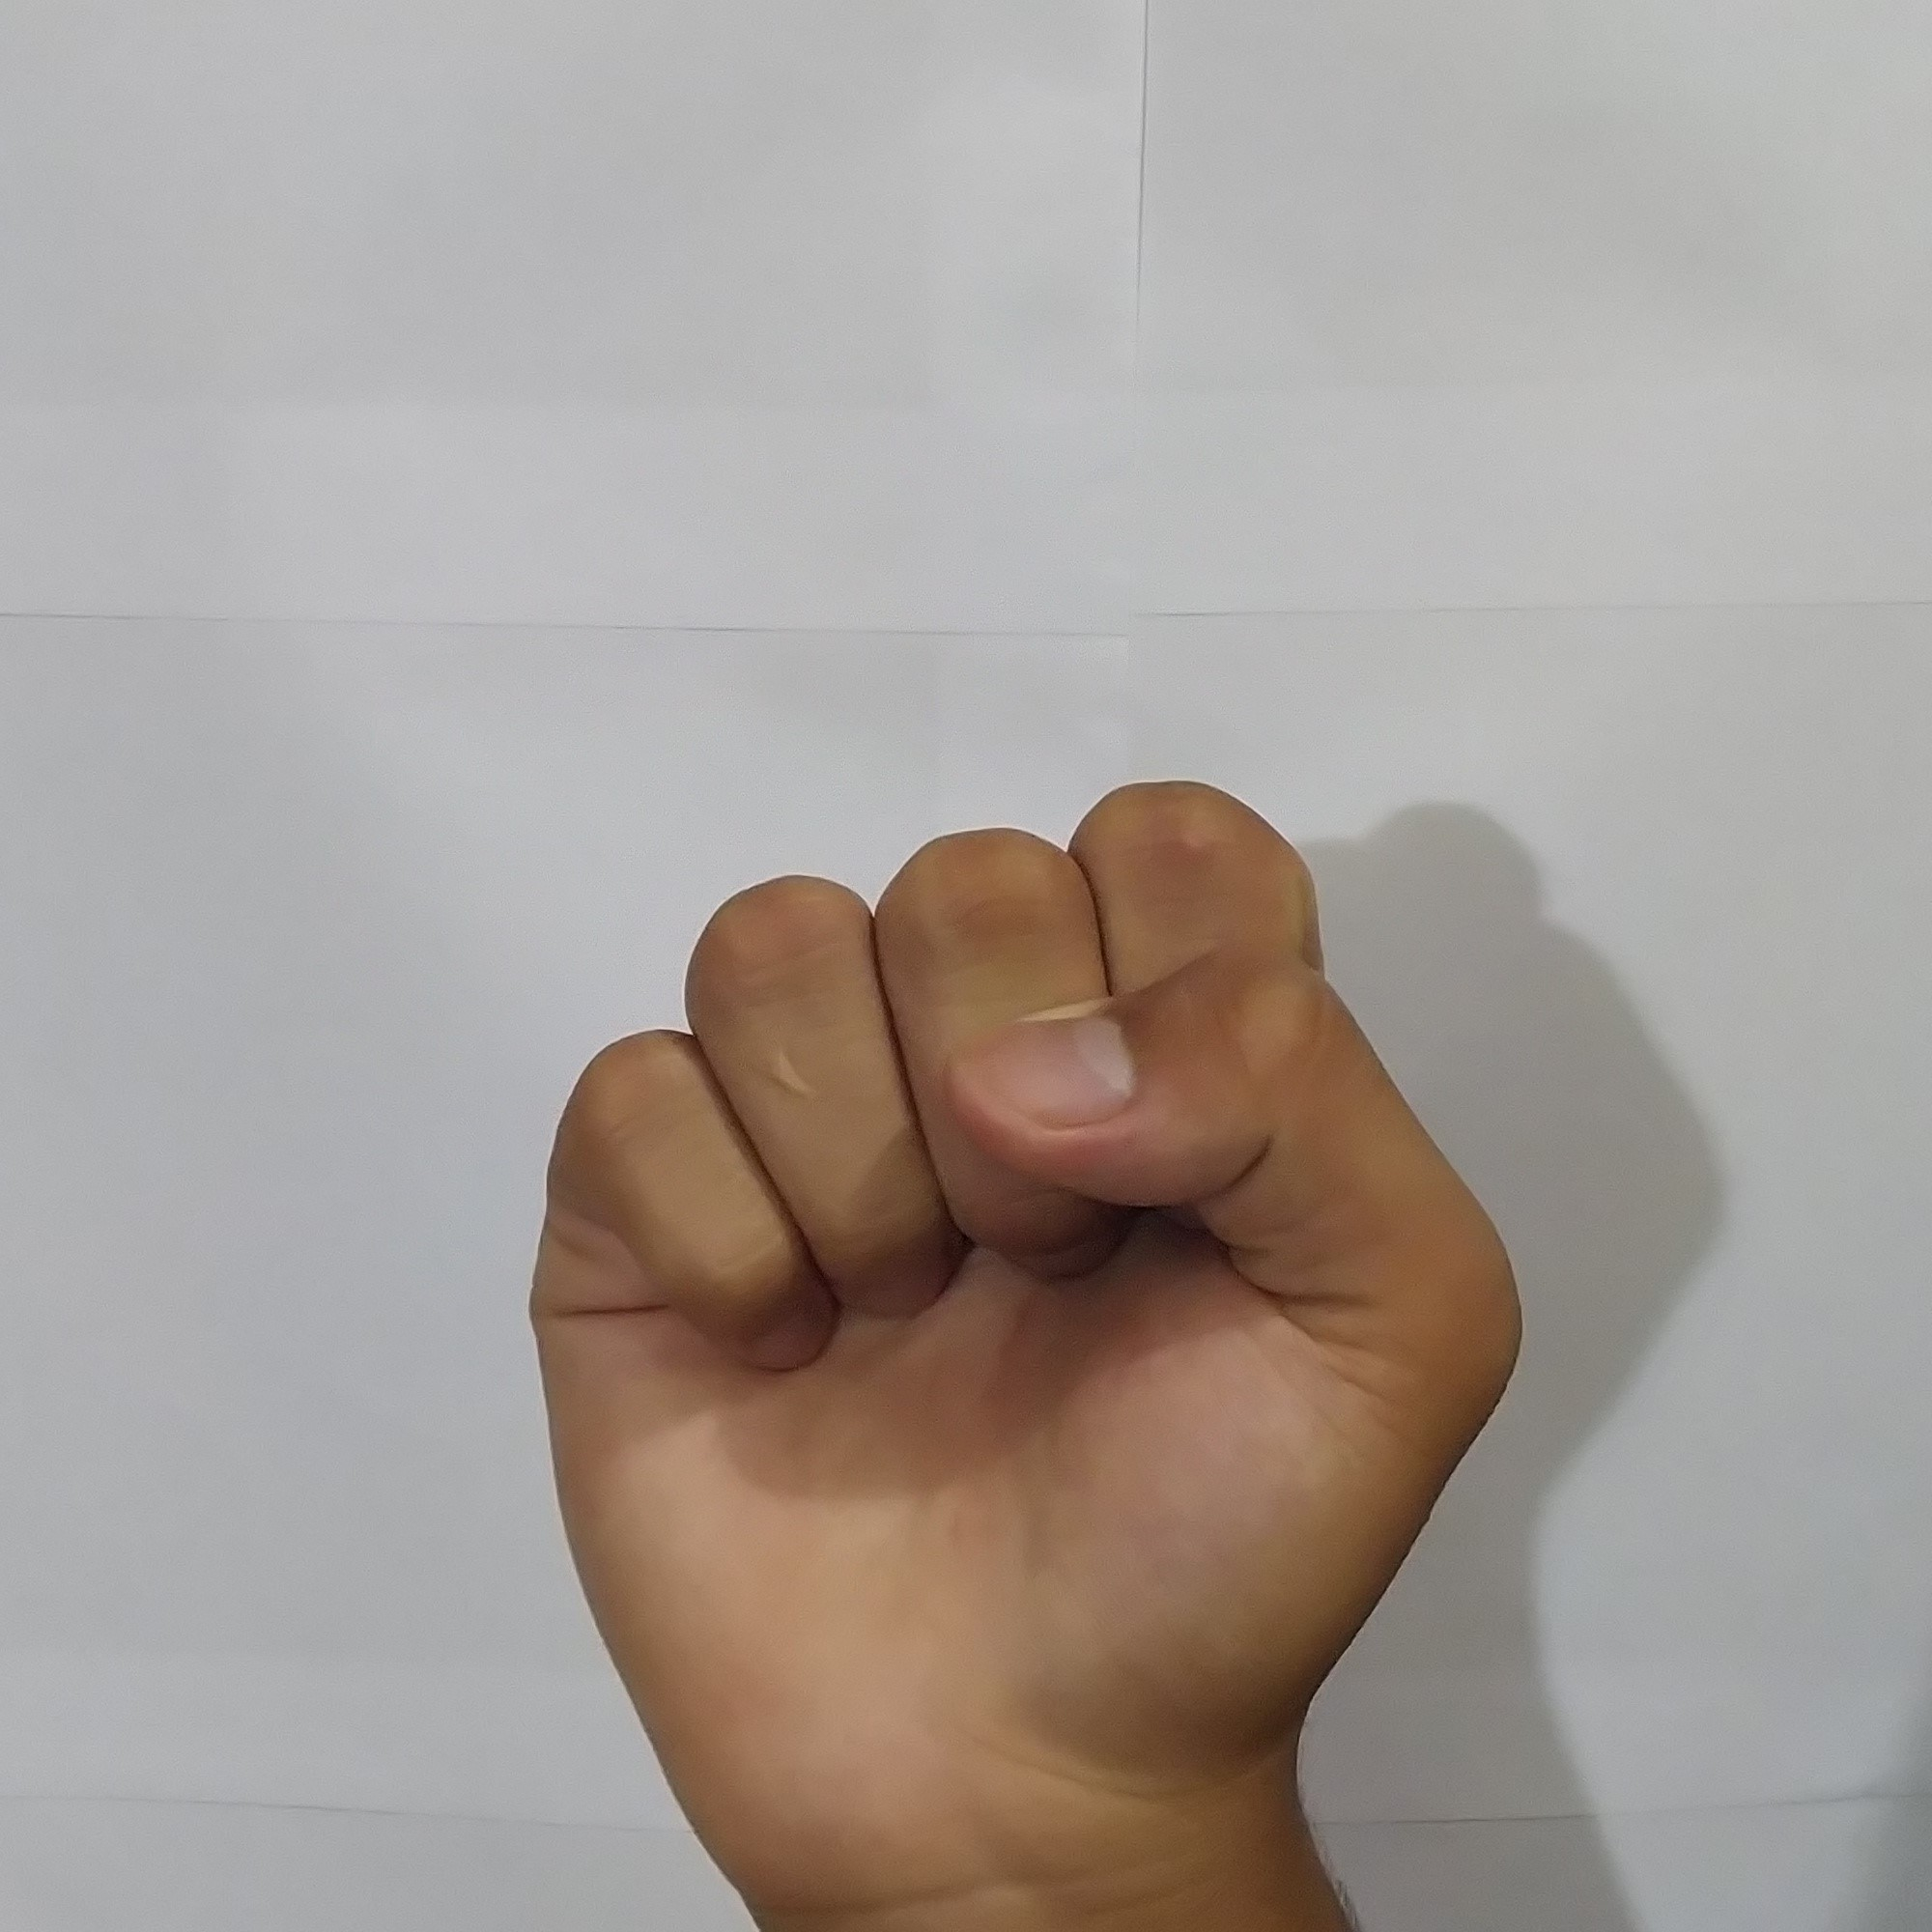S: (497, 755, 1545, 1852)
